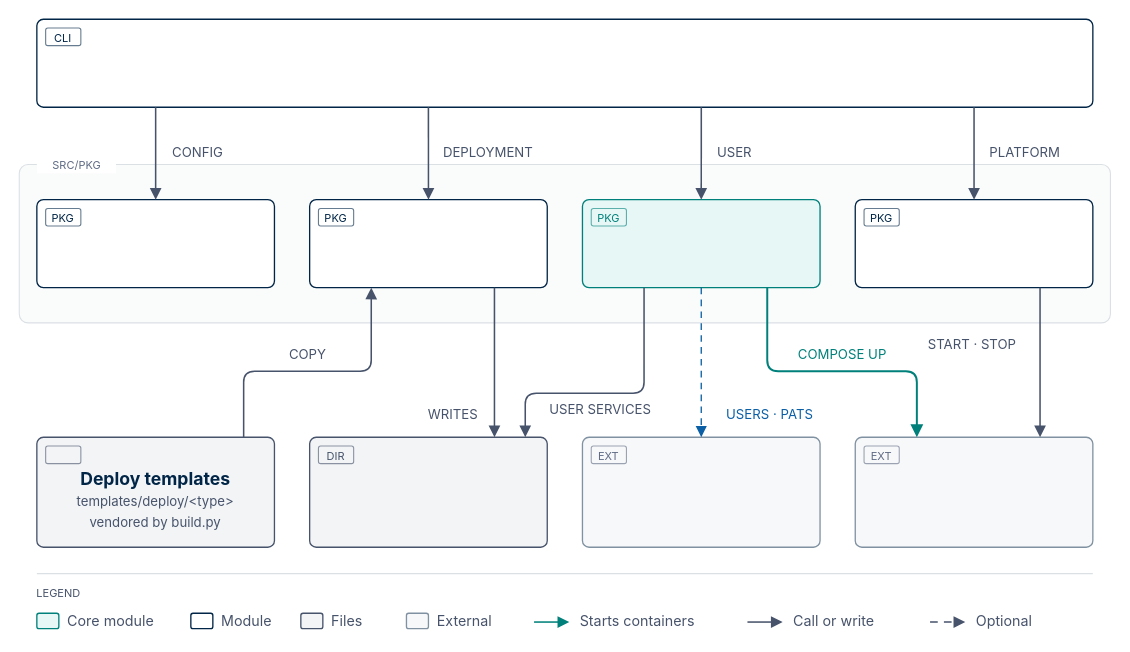
This 1130x652 diagram has some shape labels left out. Each missing label, with the box of its shape:
Config dtaas.toml · validators: (36, 198, 275, 288)
Deployment directory compose · conf.server registry · state · files/: (308, 436, 547, 547)
Deployment generator project · deploy_config: (308, 198, 547, 288)
Docker engine python-on-whales docker compose: (854, 436, 1093, 547)
dtaas commands Click · src/cmd*.py · dtaas <noun> <verb>: (36, 18, 1093, 107)
GitLab API python-gitlab via gitlab_common: (581, 436, 820, 547)
Platform lifecycle deploy.py · lifecycle.py: (854, 198, 1093, 288)
TPL: (45, 445, 81, 464)
User provisioning users* · registry · state: (581, 198, 820, 288)
